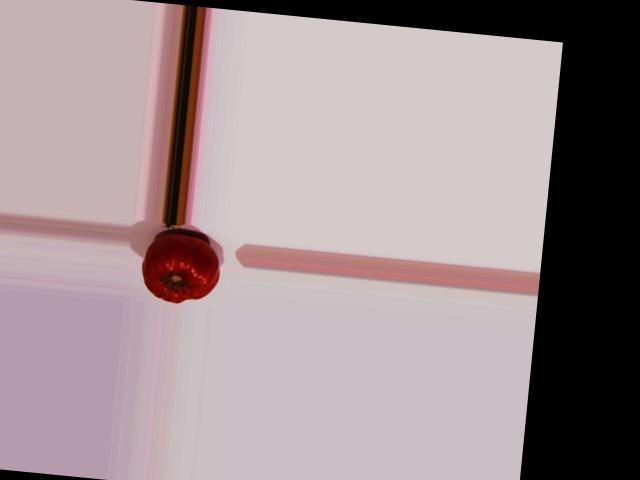tomato: (139, 231, 222, 306)
